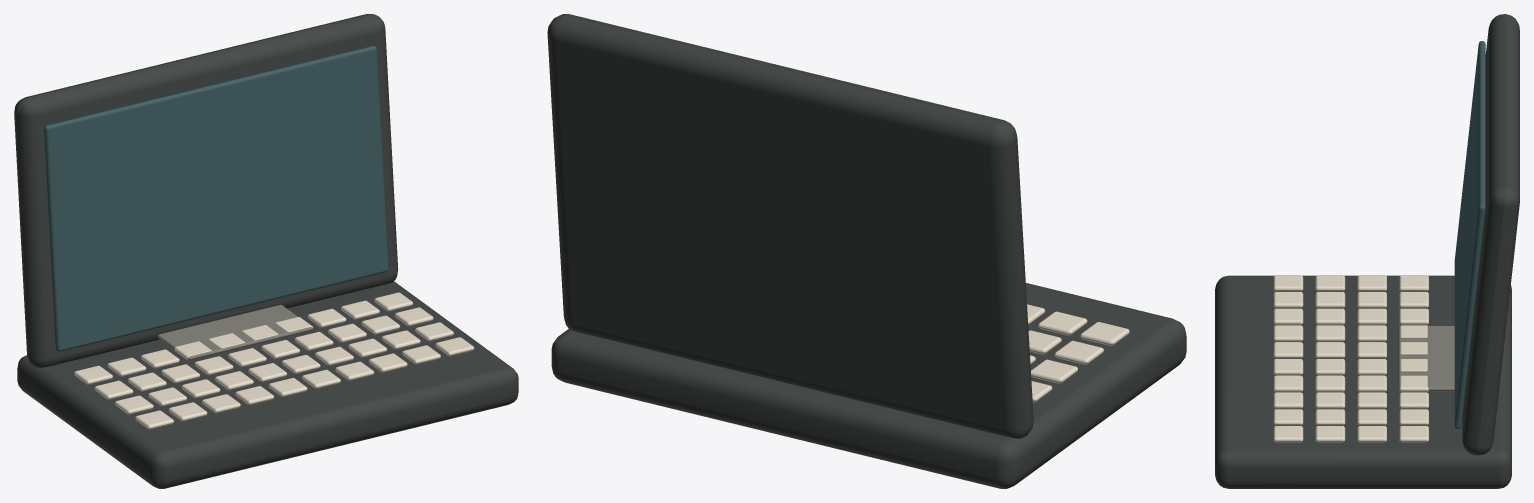
File: laptop.glb
3 views of the same model, side by side, from view 1: azimuth 30°, elevation 25°; view 2: azimuth 150°, elevation 25°; view 3: azimuth 270°, elevation 25° (orthographic). The views are drawn at different scales.
Visible parts, largest first — view 1: Laptop Screen, Laptop Base, Laptop Lid, Laptop Trackpad; view 2: Laptop Lid, Laptop Base, Laptop Key.001, Laptop Key, Laptop Key.010, Laptop Key.020; view 3: Laptop Base, Laptop Lid, Laptop Screen, Laptop Trackpad, Laptop Key, Laptop Key.002, Laptop Key.004, Laptop Key.005, Laptop Key.006, Laptop Key.008, Laptop Key.009, Laptop Key.015 (+32 smaller).
Boxes of the visible parts, <box> form: Laptop Screen: <box>44,46,388,351</box>; Laptop Base: <box>17,281,518,488</box>; Laptop Lid: <box>14,14,398,367</box>; Laptop Trackpad: <box>157,305,312,360</box>; Laptop Lid: <box>547,14,1033,438</box>; Laptop Base: <box>551,283,1186,488</box>; Laptop Key.001: <box>1038,311,1087,335</box>; Laptop Key: <box>1080,322,1129,345</box>; Laptop Key.010: <box>1054,340,1103,364</box>; Laptop Key.020: <box>1031,359,1077,383</box>; Laptop Base: <box>1215,275,1511,488</box>; Laptop Lid: <box>1462,14,1519,455</box>; Laptop Screen: <box>1454,41,1485,428</box>; Laptop Trackpad: <box>1398,326,1454,391</box>; Laptop Key: <box>1273,275,1303,291</box>; Laptop Key.002: <box>1273,308,1303,324</box>; Laptop Key.004: <box>1273,342,1303,358</box>; Laptop Key.005: <box>1273,359,1303,375</box>; Laptop Key.006: <box>1273,375,1303,391</box>; Laptop Key.008: <box>1273,409,1303,425</box>; Laptop Key.009: <box>1273,426,1303,442</box>; Laptop Key.015: <box>1315,359,1345,375</box>.
Size of the model in its own units: 0.25 by 0.1896 by 0.1745.
